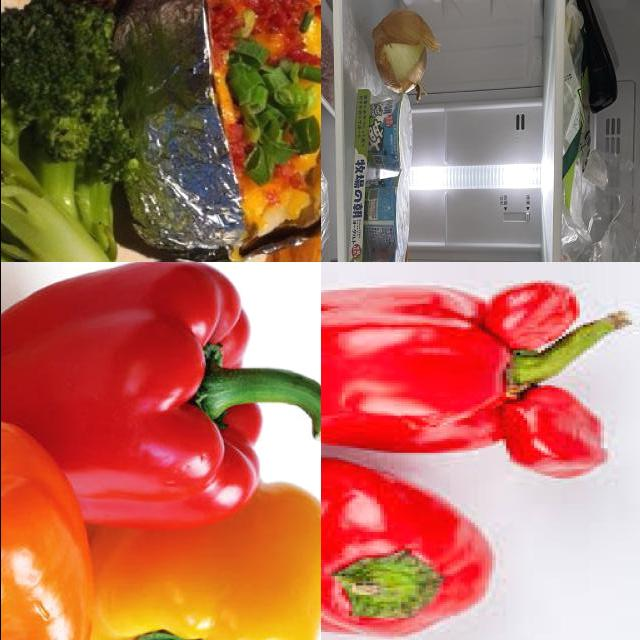bell_pepper: (1, 265, 321, 527), (321, 271, 640, 485), (72, 489, 321, 640), (321, 459, 513, 640), (1, 411, 93, 640)
onion: (365, 6, 438, 108)
